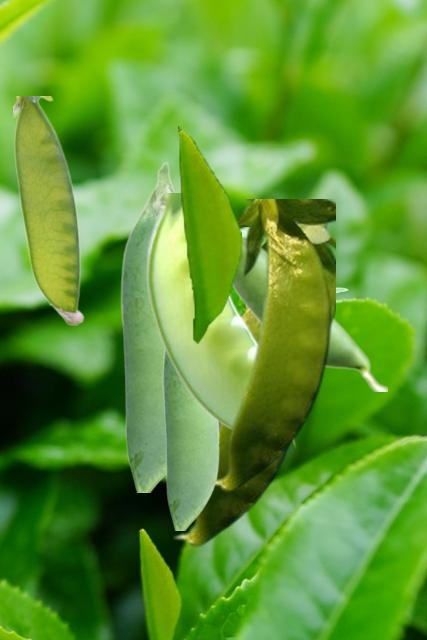pea: (145, 193, 295, 447), (207, 199, 334, 491), (173, 246, 291, 546), (232, 230, 386, 390), (120, 161, 175, 491), (13, 96, 83, 324), (162, 351, 218, 529)
